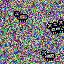sheep: (13, 10, 29, 22), (41, 50, 56, 61)
